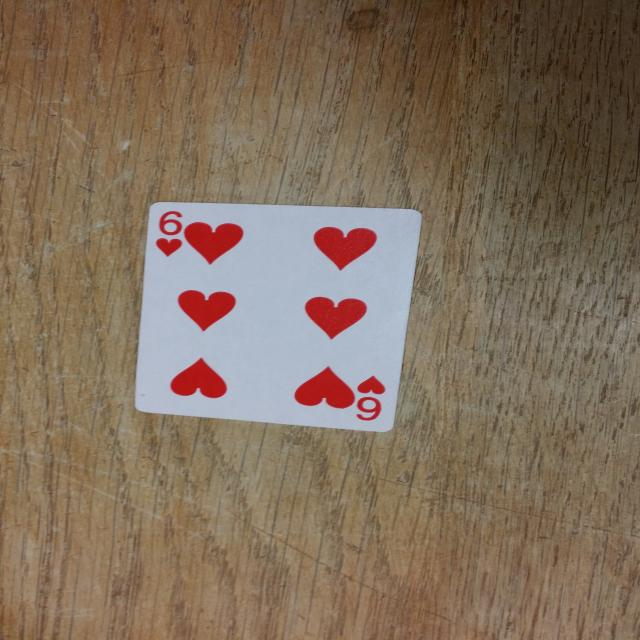6h: (342, 371, 395, 427), (150, 205, 192, 261)
